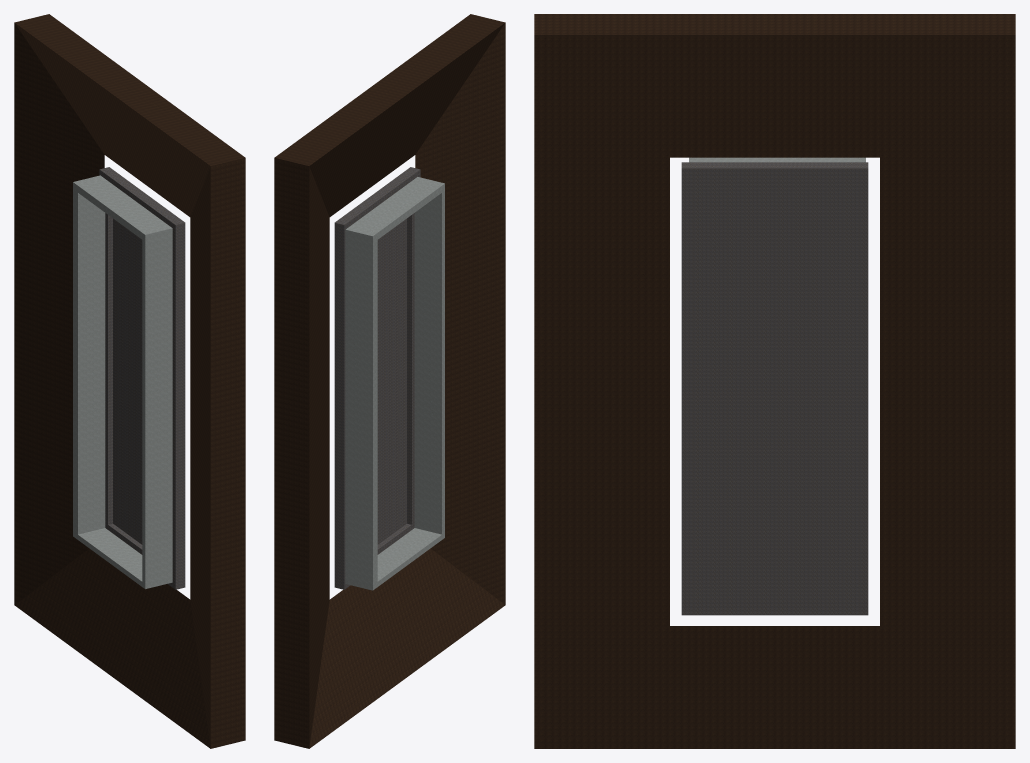
3 views of the same model, side by side, from view 1: azimuth 30°, elevation 25°; view 2: azimuth 150°, elevation 25°; view 3: azimuth 270°, elevation 25° (orthographic). The views are drawn at different scales.
Parts seen in each view (by area): view 1: EEC.16_CBM_Travail_de_session_01v2; view 2: EEC.16_CBM_Travail_de_session_01v2; view 3: EEC.16_CBM_Travail_de_session_01v2.
Boxes of the visible parts, x1,y1,x2,y2 form: EEC.16_CBM_Travail_de_session_01v2: (14,14,245,748); EEC.16_CBM_Travail_de_session_01v2: (274,14,505,748); EEC.16_CBM_Travail_de_session_01v2: (534,14,1015,748).
Bounding box in the file's own units: 2250 × 33520 × 20469.
Materials: 3 (3 with a texture image).
